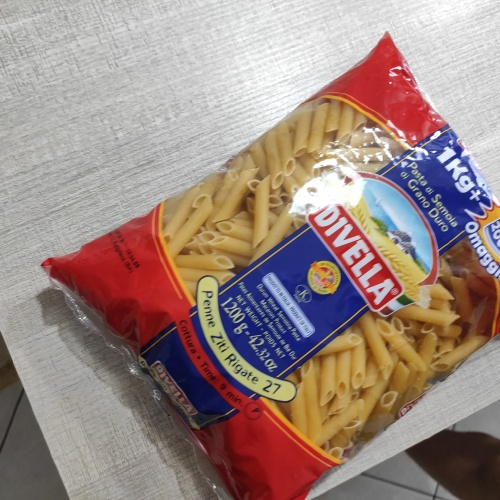pasta: (157, 130, 470, 453)
